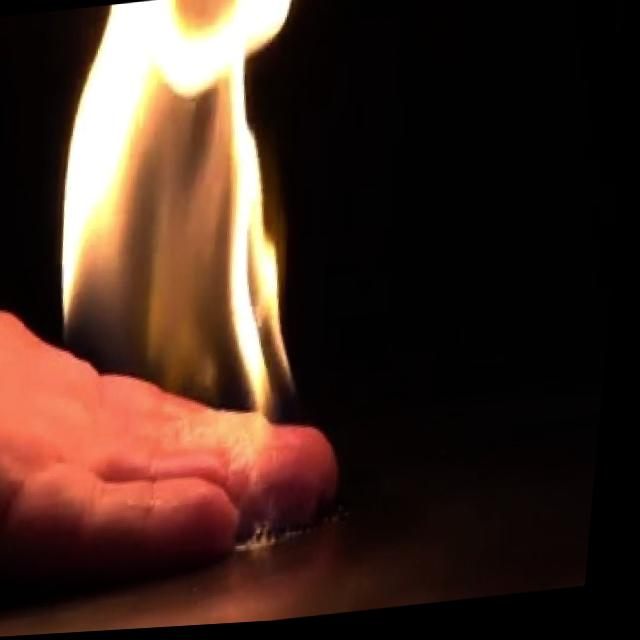helmet: (22, 0, 340, 454)
